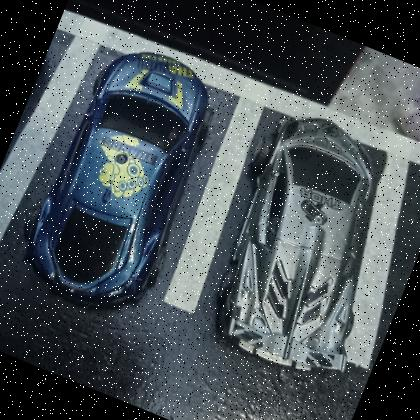Car: (25, 52, 208, 310), (214, 116, 378, 373)
